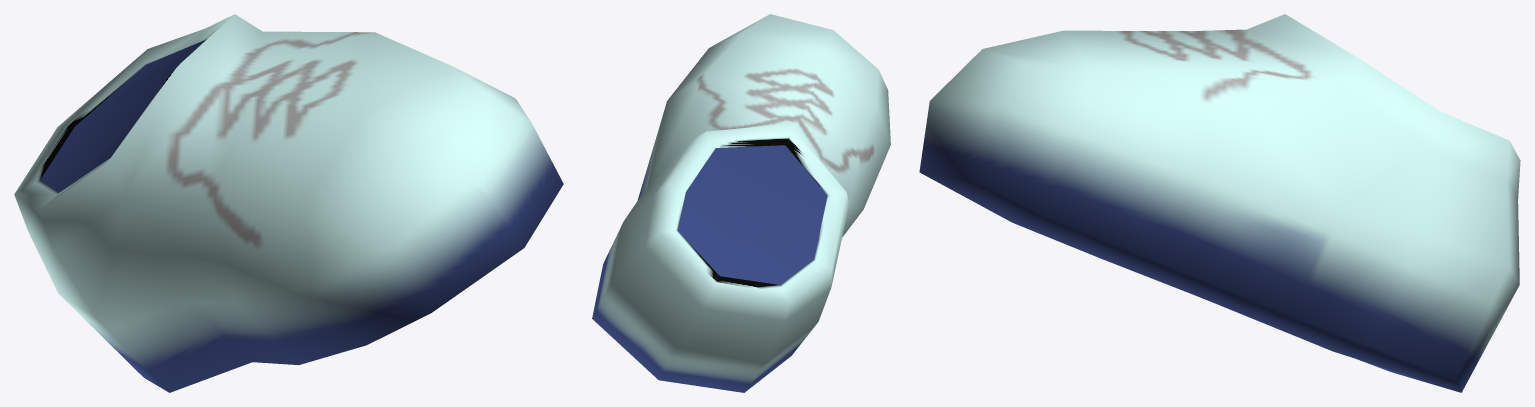
File: GiantShoe.fbx
The picture shows the model from 3 angles, left to right: view 1: azimuth 30°, elevation 25°; view 2: azimuth 150°, elevation 25°; view 3: azimuth 270°, elevation 25°; orthographic projection. The views are drawn at different scales.
Visible parts, largest first — view 1: Cube.001; view 2: Cube.001; view 3: Cube.001.
Boxes of the visible parts, <box> form: Cube.001: <box>14,14,563,392</box>; Cube.001: <box>592,14,890,392</box>; Cube.001: <box>919,14,1520,392</box>.
Bounding box in the file's own units: 16.57 × 17.16 × 24.6.
